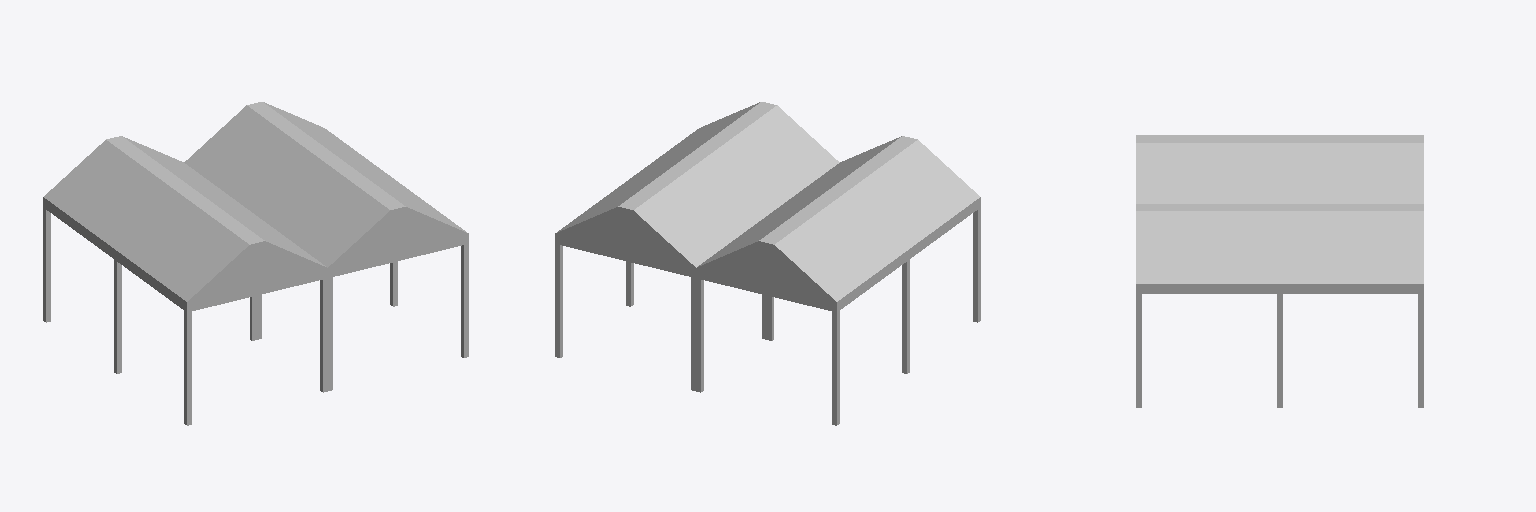
Rendered from tentRoofDouble.obj.
3 renders of one model, left to right at view 1: azimuth 30°, elevation 25°; view 2: azimuth 150°, elevation 25°; view 3: azimuth 270°, elevation 25°, orthographic.
Parts seen in each view (by area): view 1: tentRoofDouble; view 2: tentRoofDouble; view 3: tentRoofDouble.
Part boxes in pixels (x1,y1,x2,y2): tentRoofDouble: (43,102,468,425); tentRoofDouble: (555,102,980,425); tentRoofDouble: (1136,135,1423,407).
Size of the model in its own units: 1.12 by 0.63 by 0.99.